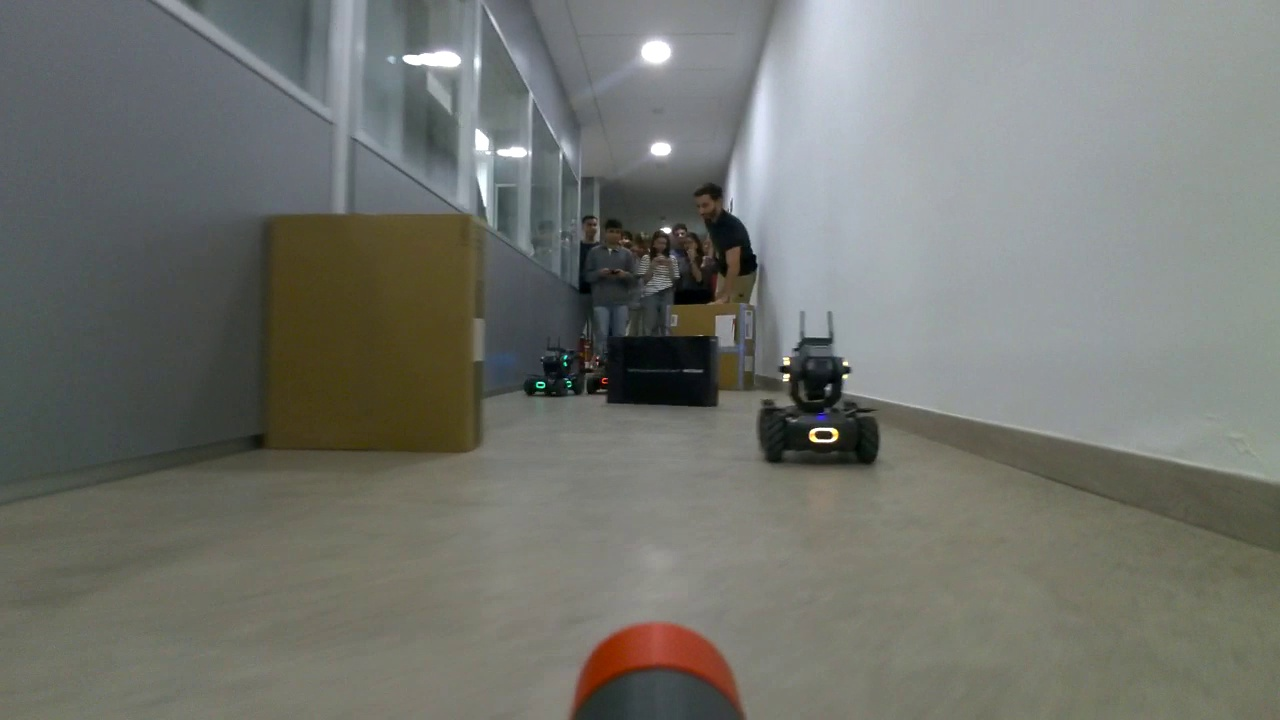robot: (756, 331, 885, 467), (522, 350, 578, 397)
